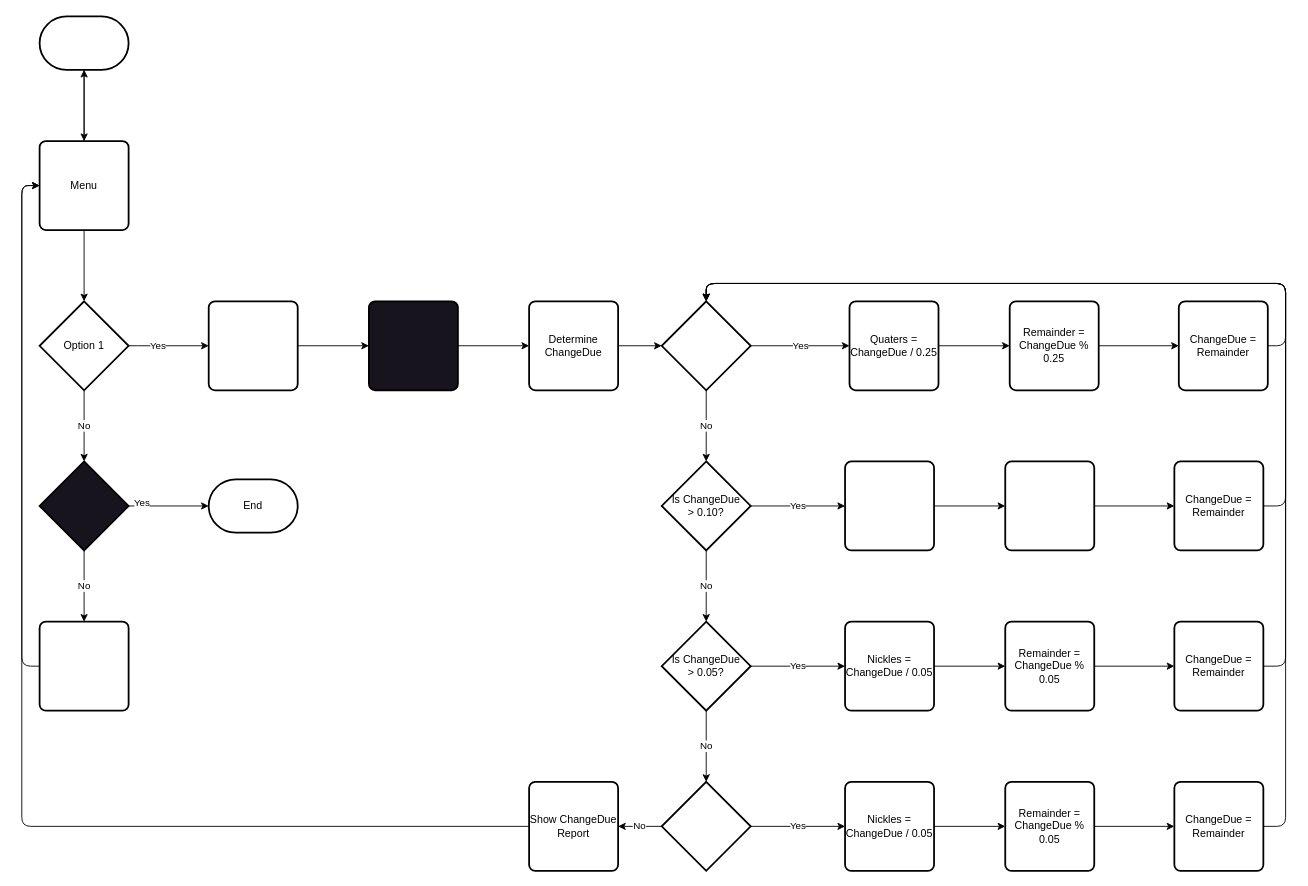
The diagram is 1308 pixels wide and 886 high, and some of its shapes have lost their labels. Each missing label, with the centre of its shape:
"Dimes = ChangeDue / 0.10" belongs at (889,505).
"Get Cost" belongs at (252,345).
"Get Tendered Amount" belongs at (413,345).
"Is ChangeDue > 0. 25?" belongs at (705,345).
"Is ChangeDue > 0.01?" belongs at (705,826).
"Option 2" belongs at (83,505).
"Remainder = ChangeDue % 0.10" belongs at (1049,505).
"Start" belongs at (83,42).
"Undefined Input" belongs at (83,665).
